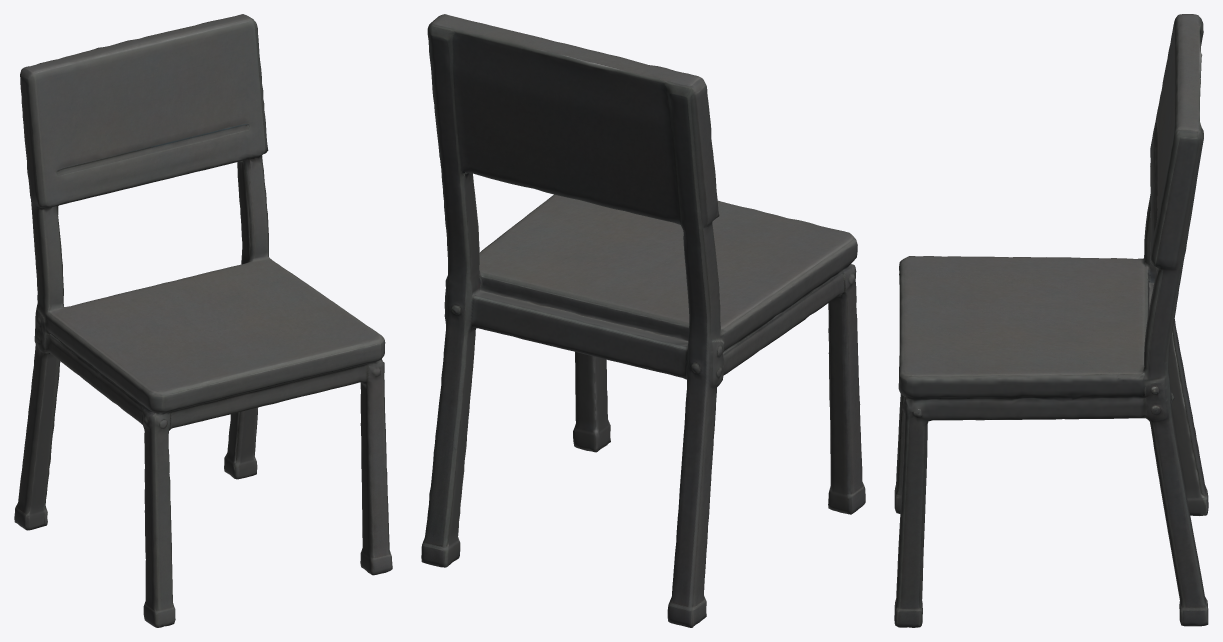
File: GuardRoom_Chair.glb
3 views of the same model, side by side, from view 1: azimuth 30°, elevation 25°; view 2: azimuth 150°, elevation 25°; view 3: azimuth 270°, elevation 25° (orthographic). The views are drawn at different scales.
Parts seen in each view (by area): view 1: texture_mapping; view 2: texture_mapping; view 3: texture_mapping.
Boxes of the visible parts, x1=… form: texture_mapping: x1=14, y1=14, x2=392, y2=627; texture_mapping: x1=421, y1=14, x2=865, y2=627; texture_mapping: x1=894, y1=14, x2=1208, y2=627.
Size of the model in its own units: 0.545 by 1 by 0.5751.
1 material, 1 textured.
